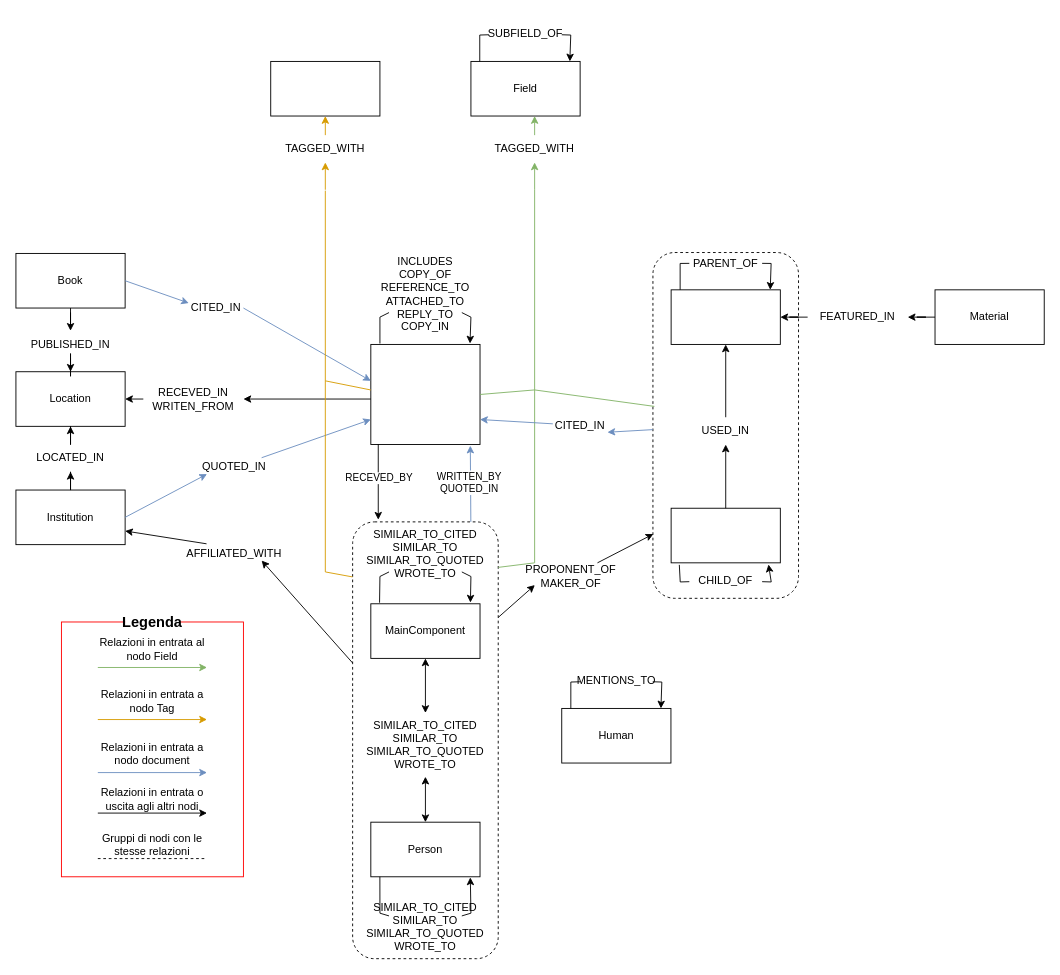
Image size: 1060x975. Some labels were removed from this diagram. The centre of each missing label's shape, as x and y in pixels:
Document: (x=425, y=394)
Experiment: (x=725, y=316)
Instrument: (x=725, y=535)
Tag: (x=325, y=88)
